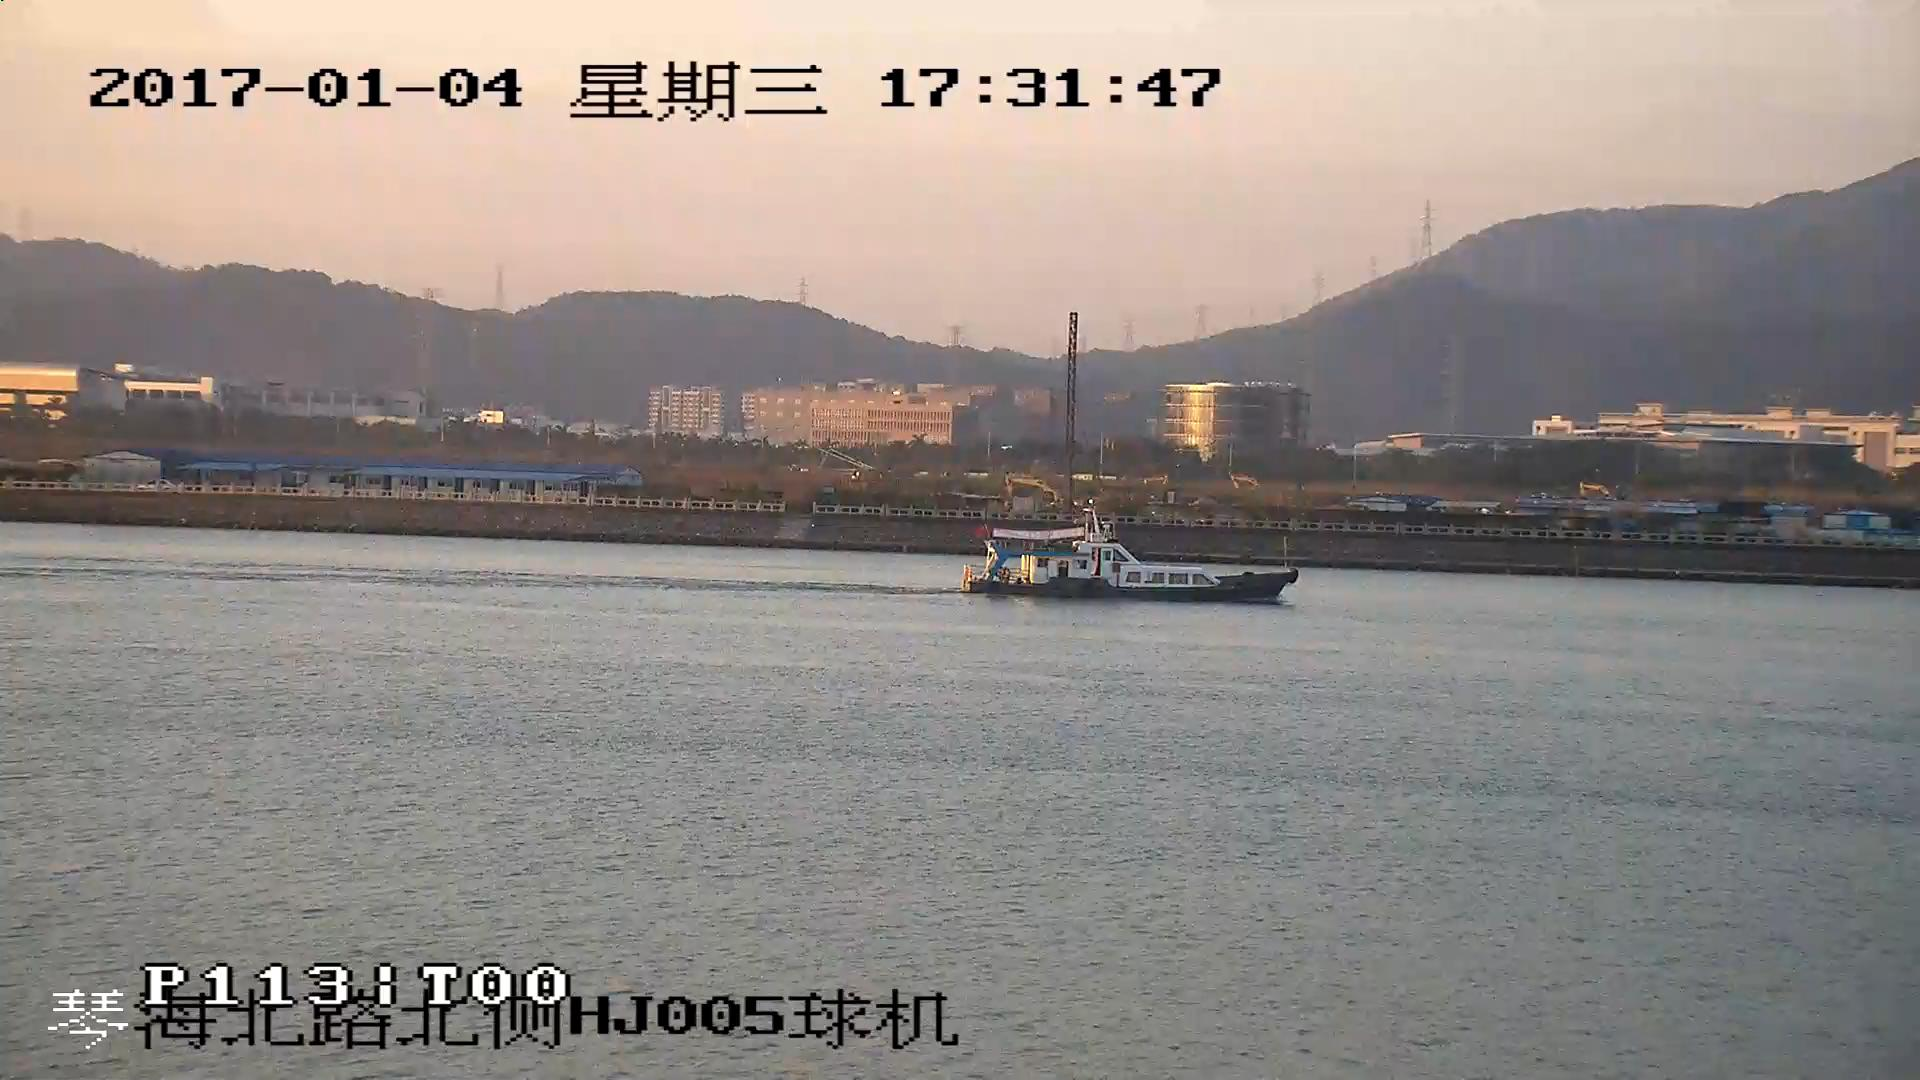fishing boat: (962, 525, 1300, 607)
